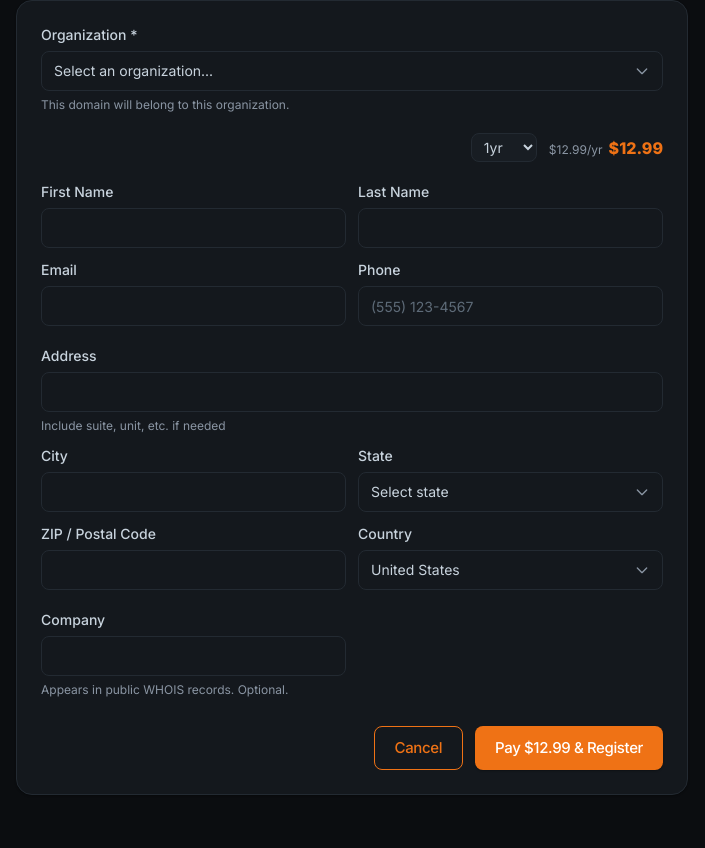
Scenario: DomainCheckoutForm org-aware pricing › shows the org discounted price rather than the catalog price
Step 1. Click the button "Select an organization..." → (134, 70), box [41,51,663,91]
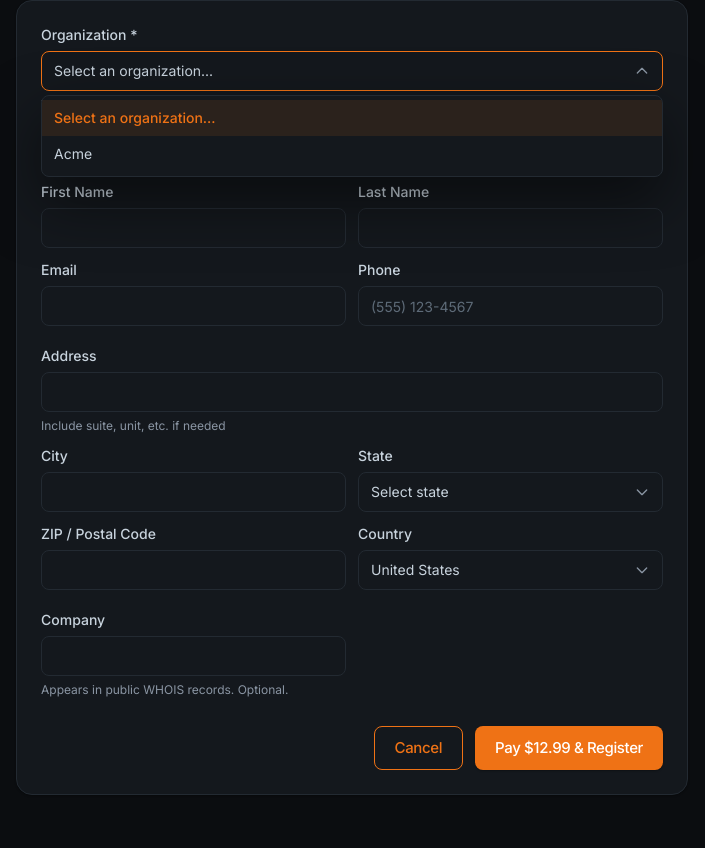
Step 2. Click the option "Acme" → (73, 154), box [42,136,662,172]
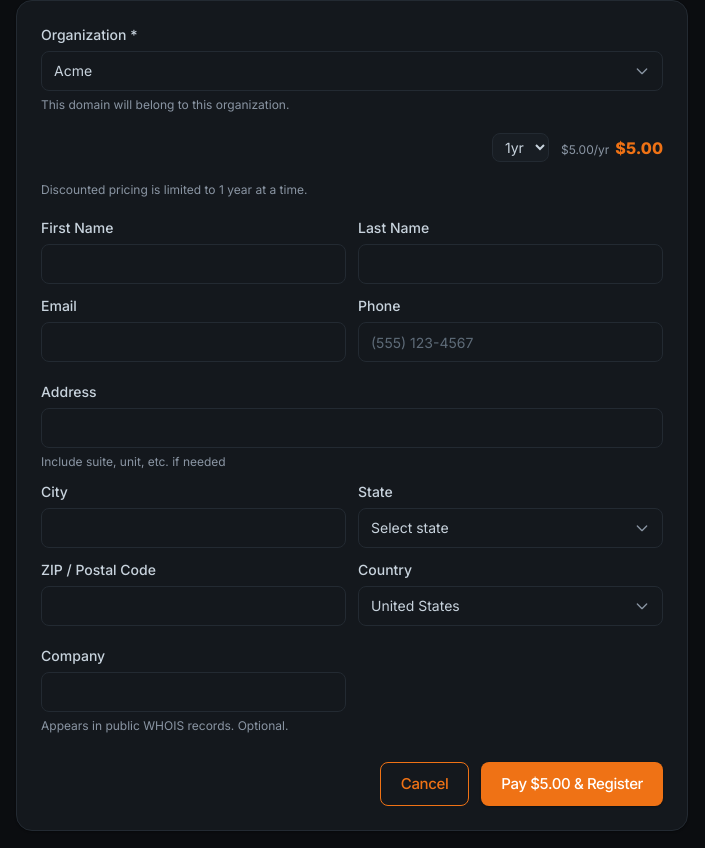
Now the text "$5.00/yr" is shown, box [561,142,609,158]
Now the text "$12.99/yr" is gone
